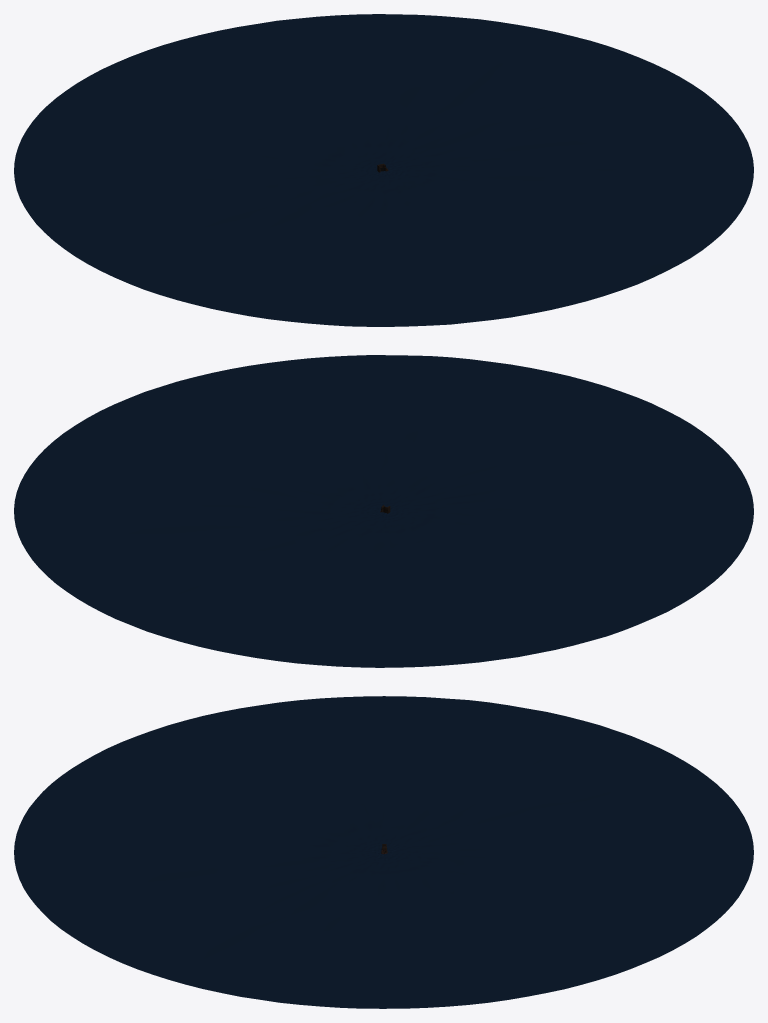
Rendered from Mountain.FBX.
3 views of the same model, one above another, from view 1: azimuth 30°, elevation 25°; view 2: azimuth 150°, elevation 25°; view 3: azimuth 270°, elevation 25° (orthographic).
Parts seen in each view (by area): view 1: Sea; view 2: Sea; view 3: Sea.
Boxes of the visible parts, <box> form: Sea: <box>14,14,753,326</box>; Sea: <box>14,355,753,667</box>; Sea: <box>14,696,753,1008</box>.
Bounding box in the file's own units: 19208 × 256 × 19208.
